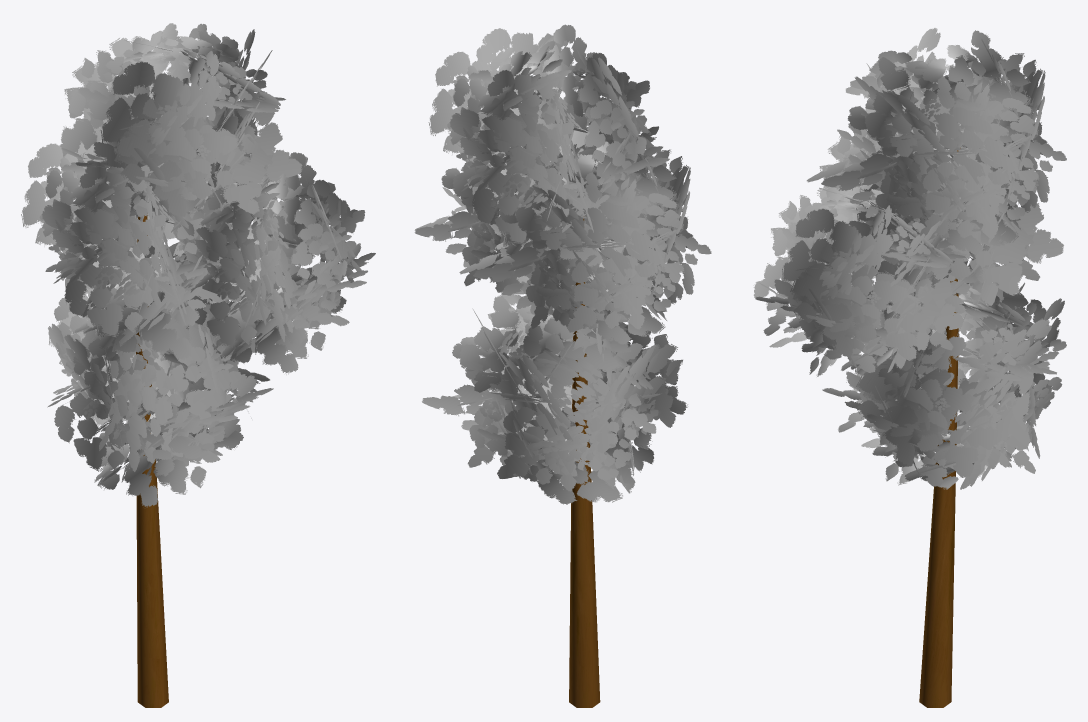
The model's file is SM_Tree1_01.fbx.
3 renders of one model, left to right at view 1: azimuth 30°, elevation 25°; view 2: azimuth 150°, elevation 25°; view 3: azimuth 270°, elevation 25°, orthographic. The views are drawn at different scales.
Parts seen in each view (by area): view 1: SM_Tree1_01_LOD0; view 2: SM_Tree1_01_LOD0; view 3: SM_Tree1_01_LOD0.
Part boxes in pixels (x1,y1,x2,y2): SM_Tree1_01_LOD0: (21, 23, 375, 707); SM_Tree1_01_LOD0: (414, 24, 711, 707); SM_Tree1_01_LOD0: (753, 28, 1066, 707).
Size of what is drawn, in the model's own units: 545 by 1142 by 497.
